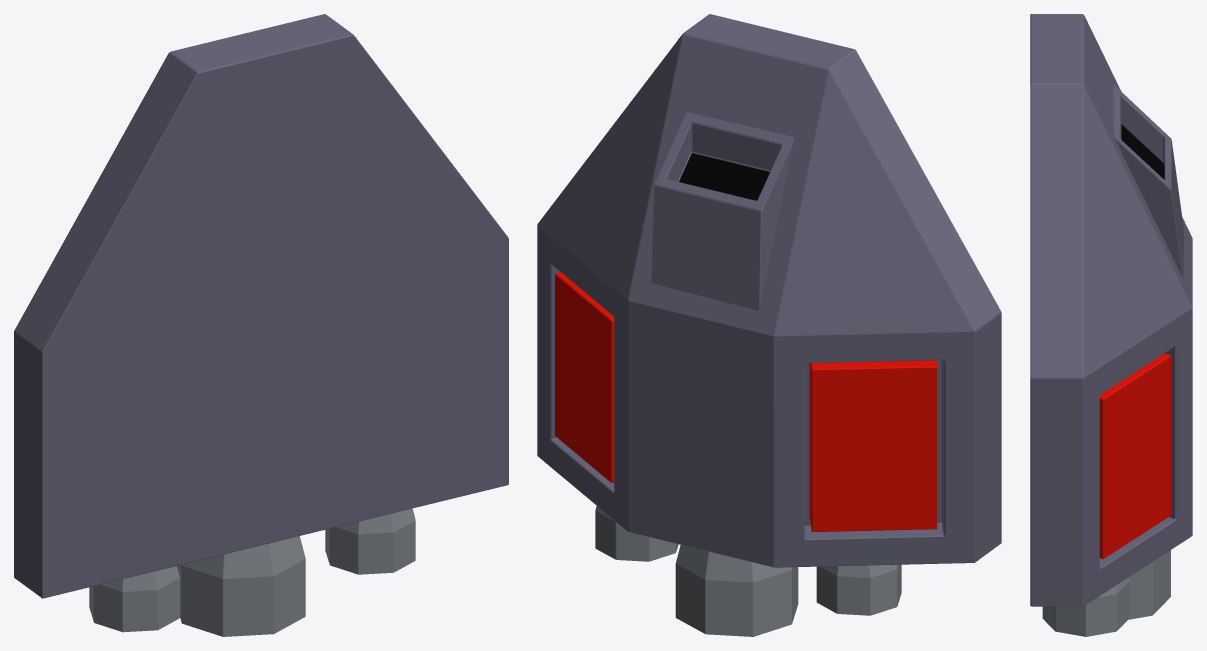
Rendered from space_ship.fbx.
3 views of the same model, side by side, from view 1: azimuth 30°, elevation 25°; view 2: azimuth 150°, elevation 25°; view 3: azimuth 270°, elevation 25° (orthographic). The views are drawn at different scales.
Parts seen in each view (by area): view 1: Plane, Circle, Circle.001; view 2: Plane, Circle, Circle.001; view 3: Plane, Circle.001, Circle.
Part boxes in pixels (box(x1,y1,x2,y2)): Plane: box(14, 14, 508, 598); Circle: box(177, 536, 305, 636); Circle.001: box(89, 508, 415, 632); Plane: box(537, 14, 1001, 567); Circle: box(675, 545, 798, 636); Circle.001: box(595, 506, 901, 615); Plane: box(1030, 14, 1192, 606); Circle.001: box(1042, 578, 1129, 636); Circle: box(1128, 550, 1170, 619).
Bounding box in the file's own units: 200 × 241 × 64.89.
